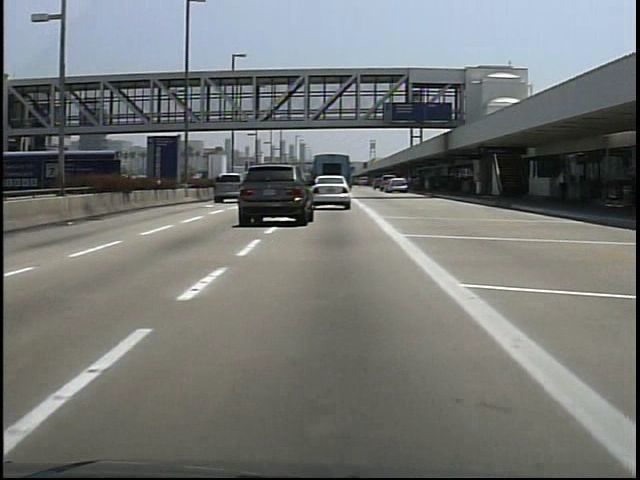person: (551, 167, 572, 208)
